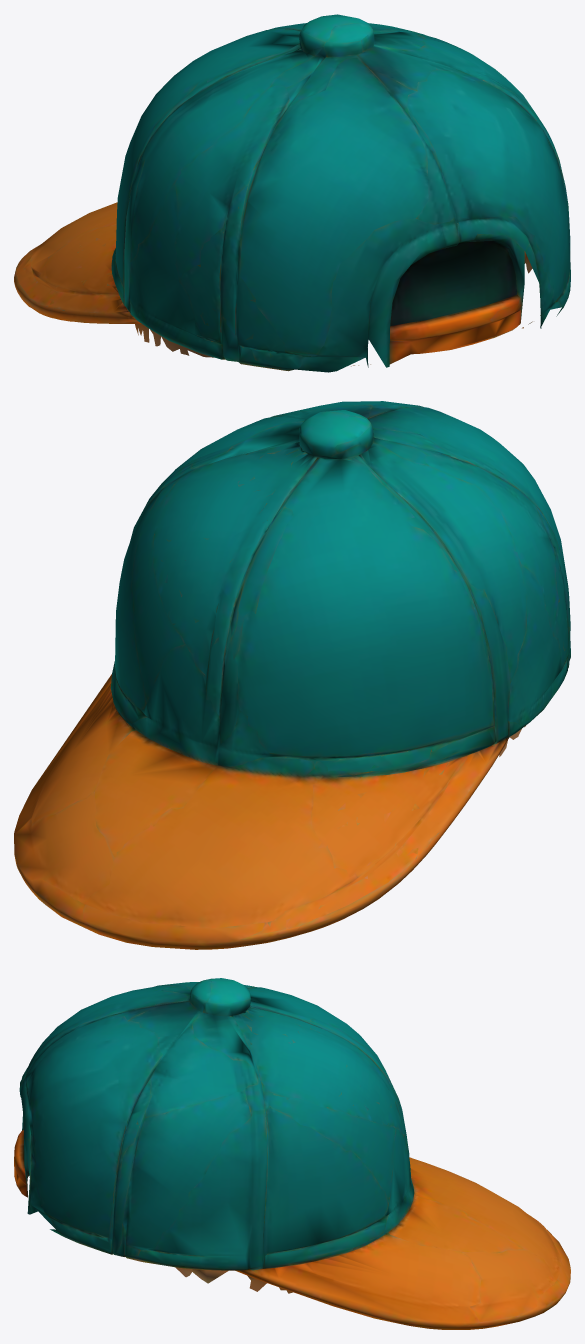
The picture shows the model from 3 angles, top to bottom: view 1: azimuth 30°, elevation 25°; view 2: azimuth 150°, elevation 25°; view 3: azimuth 270°, elevation 25°; orthographic projection. The views are drawn at different scales.
Parts seen in each view (by area): view 1: material; view 2: material; view 3: material.
Part boxes in pixels (x1,y1,x2,y2): material: [14, 14, 570, 372]; material: [14, 401, 570, 949]; material: [14, 978, 570, 1329].
Bounding box in the file's own units: 0.6135 × 0.5612 × 0.9518.
Materials: 1 (1 with a texture image).
